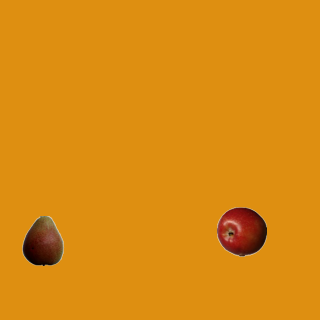Apple Braeburn: (216, 206, 266, 256)
Pear Forelle: (17, 215, 67, 265)
